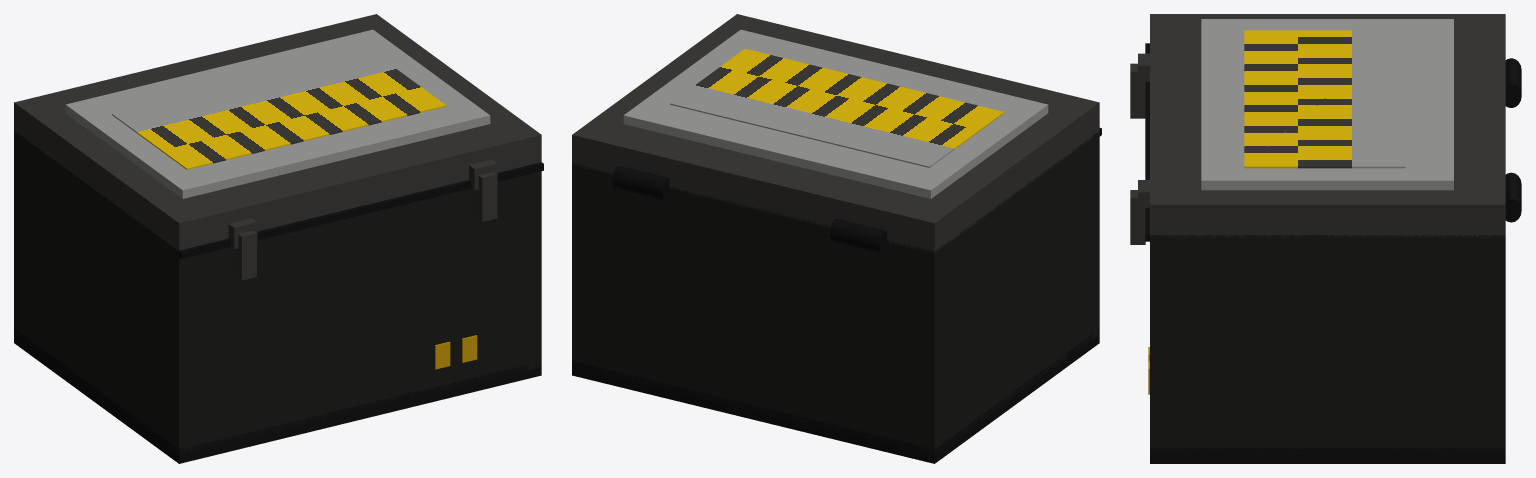
Rendered from CMU3DInteriorRMCCrateMetalSheets.glb.
The picture shows the model from 3 angles, left to right: view 1: azimuth 30°, elevation 25°; view 2: azimuth 150°, elevation 25°; view 3: azimuth 270°, elevation 25°; orthographic projection. The views are drawn at different scales.
Parts seen in each view (by area): view 1: front structural wall, separate solid closed lid, side structural wall -1, raised inset lid surround, original hazard-stripe lid insert, bottom structural pan, front lid gasket, side structural wall 1, rear structural wall, latch tongue 0.29, latch tongue -0.29; view 2: rear structural wall, separate solid closed lid, side structural wall -1, raised inset lid surround, original hazard-stripe lid insert, bottom structural pan, front structural wall, side structural wall 1, rear lid hinge 0.2625, rear lid hinge -0.2625; view 3: side structural wall 1, separate solid closed lid, original hazard-stripe lid insert, raised inset lid surround, bottom structural pan, front structural wall, rear structural wall, rear lid hinge -0.2625, rear lid hinge 0.2625, front lid gasket, latch tongue -0.29, latch tongue 0.29 (+1 smaller).
Part boxes in pixels (x1,y1,x2,y2): front structural wall: [171, 171, 541, 454]; separate solid closed lid: [14, 14, 541, 251]; side structural wall -1: [14, 131, 192, 454]; raised inset lid surround: [65, 29, 490, 198]; original hazard-stripe lid insert: [112, 50, 446, 169]; bottom structural pan: [14, 328, 541, 463]; front lid gasket: [179, 162, 543, 258]; side structural wall 1: [528, 172, 541, 369]; rear structural wall: [14, 131, 21, 338]; latch tongue 0.29: [475, 172, 497, 221]; latch tongue -0.29: [234, 230, 256, 280]; rear structural wall: [572, 163, 941, 454]; separate solid closed lid: [572, 14, 1099, 253]; side structural wall -1: [921, 137, 1099, 454]; raised inset lid surround: [623, 29, 1048, 198]; original hazard-stripe lid insert: [670, 48, 1004, 167]; bottom structural pan: [572, 329, 1099, 463]; front structural wall: [1092, 131, 1099, 339]; side structural wall 1: [572, 163, 585, 362]; rear lid hinge 0.2625: [612, 165, 669, 200]; rear lid hinge -0.2625: [830, 219, 886, 253]; side structural wall 1: [1150, 235, 1505, 454]; separate solid closed lid: [1150, 14, 1505, 237]; original hazard-stripe lid insert: [1244, 30, 1405, 168]; raised inset lid surround: [1201, 19, 1453, 190]; bottom structural pan: [1150, 448, 1505, 463]; front structural wall: [1150, 235, 1165, 454]; rear structural wall: [1490, 235, 1505, 454]; rear lid hinge -0.2625: [1505, 58, 1521, 107]; rear lid hinge 0.2625: [1505, 172, 1521, 222]; front lid gasket: [1145, 43, 1152, 241]; latch tongue -0.29: [1130, 63, 1145, 118]; latch tongue 0.29: [1130, 190, 1145, 244].
Bounding box in the file's own units: 0.875 × 0.578 × 0.759.
6 materials, 1 textured.
